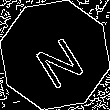N_NW: (25, 23, 85, 87)
